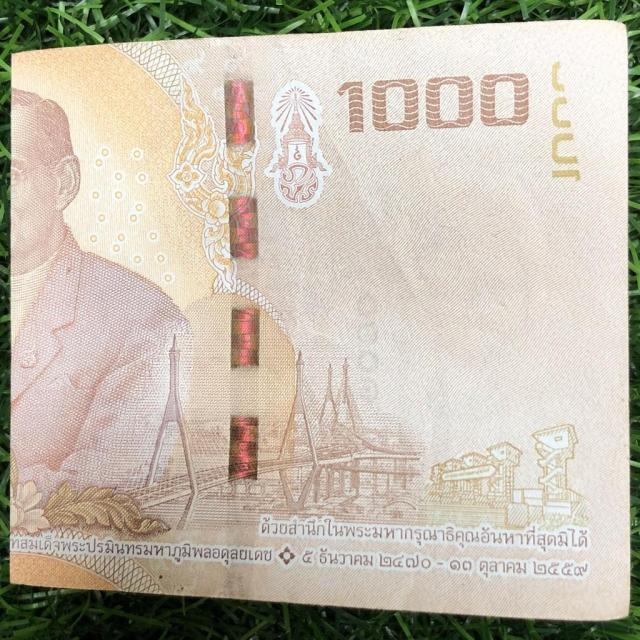THAI1000: (9, 21, 630, 620)
